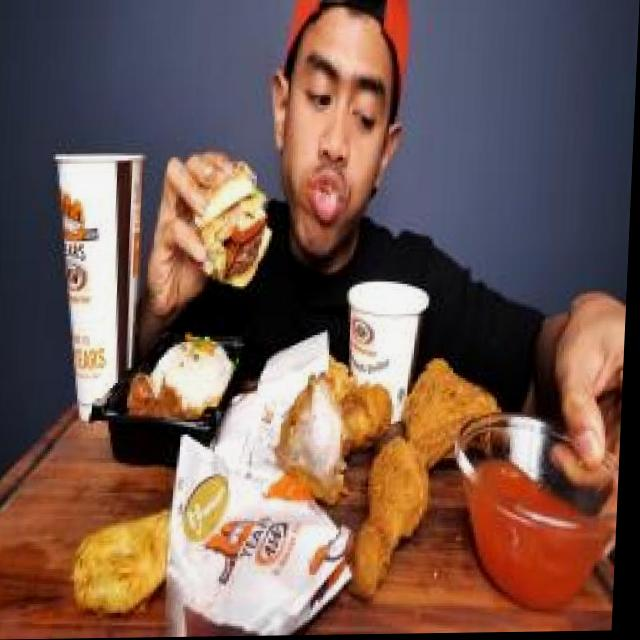AW cola: (42, 116, 171, 437)
black pepper rice bowl: (124, 325, 259, 451)
fried chicken: (269, 367, 515, 590)
mozza burger: (182, 150, 281, 301)
perkedel: (69, 508, 182, 609)
